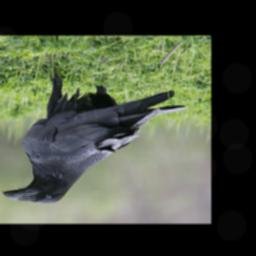Crow: (2, 66, 188, 204)
